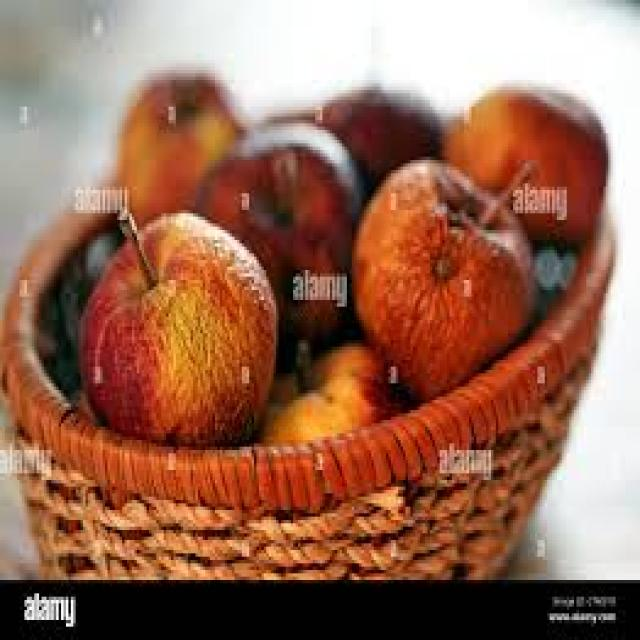overripe: (79, 206, 281, 444), (350, 158, 539, 384)
